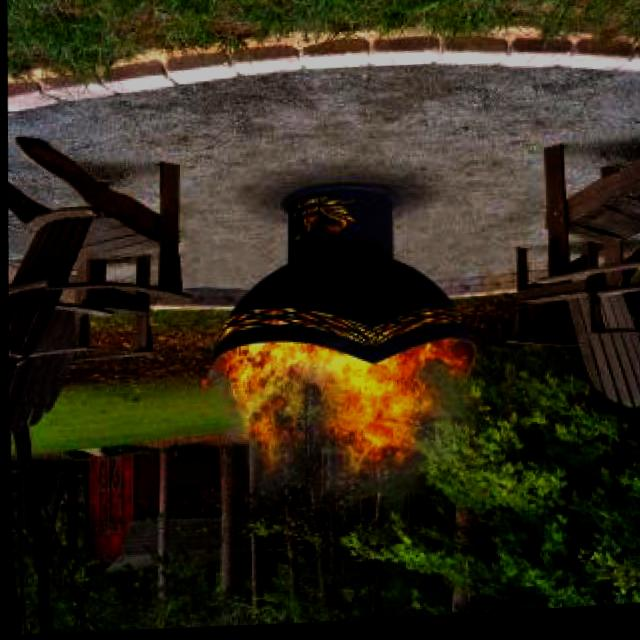helmet: (222, 320, 436, 498), (413, 348, 476, 486)
